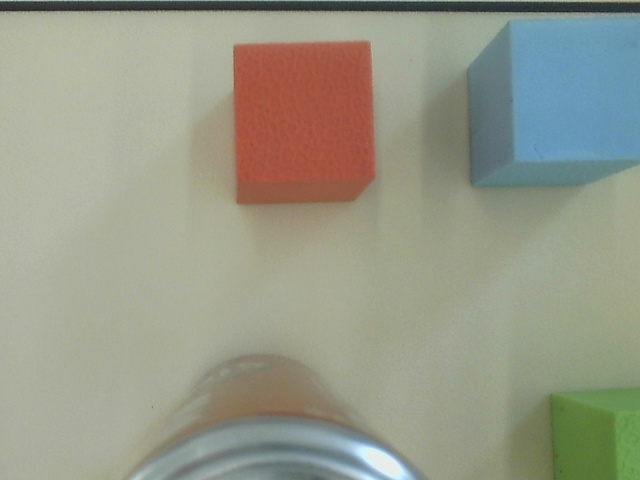bluecube: (462, 15, 640, 192)
cola: (117, 350, 438, 480)
greencube: (540, 386, 640, 480)
redcube: (226, 39, 384, 217)
